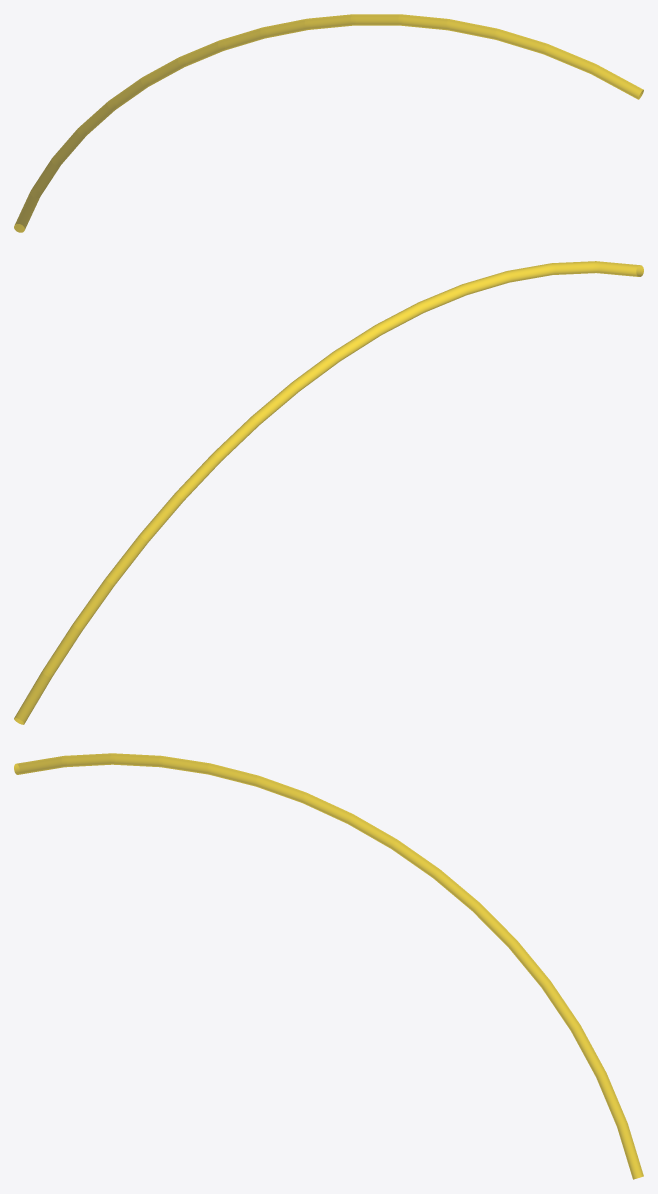
The model's file is Event_15818458_track_1.fbx.
The picture shows the model from 3 angles, top to bottom: view 1: azimuth 90°, elevation 25°; view 2: azimuth 150°, elevation 25°; view 3: azimuth 270°, elevation 25°; orthographic projection. The views are drawn at different scales.
Visible parts, largest first — view 1: Model; view 2: Model; view 3: Model.
Part boxes in pixels (x1,y1,x2,y2): Model: [14, 14, 643, 232]; Model: [14, 261, 643, 724]; Model: [14, 753, 643, 1179].
Size of the model in its own units: 1.17 by 1.21 by 2.2.
